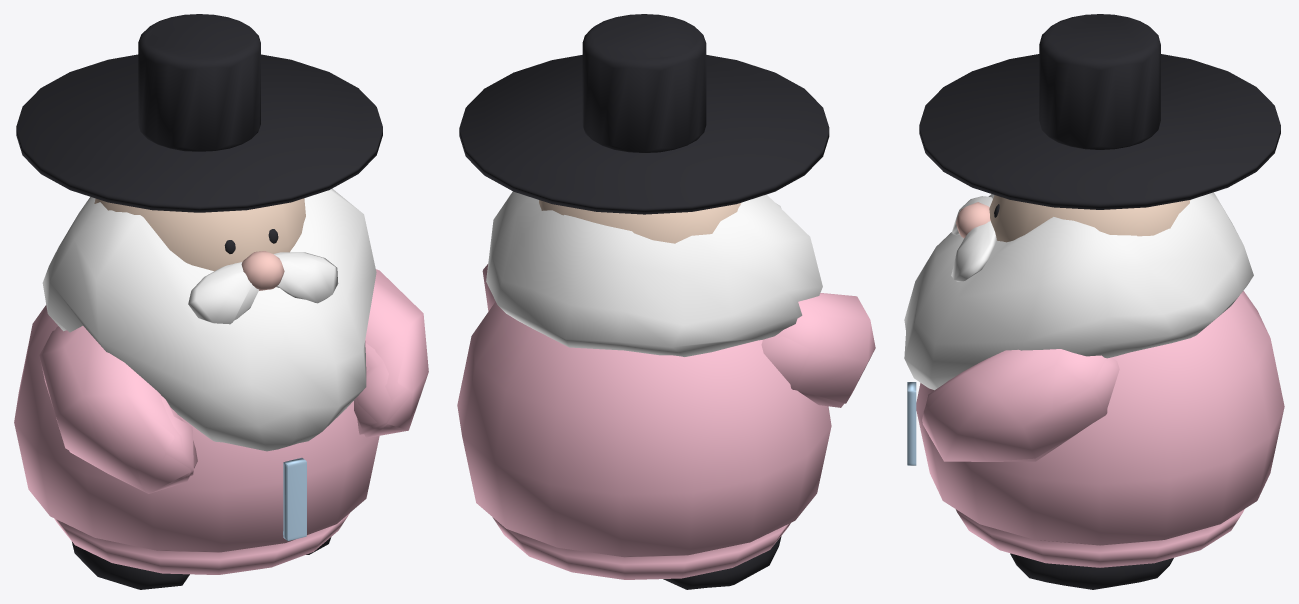
The model's file is hanbok.glb.
3 views of the same model, side by side, from view 1: azimuth 30°, elevation 25°; view 2: azimuth 150°, elevation 25°; view 3: azimuth 270°, elevation 25° (orthographic). The views are drawn at different scales.
Visible parts, largest first — view 1: hanbok_red, hanbok_white, hanbok_black, hanbok_skin, hanbok_sky, hanbok_nose; view 2: hanbok_red, hanbok_black, hanbok_white, hanbok_skin; view 3: hanbok_red, hanbok_black, hanbok_white, hanbok_skin, hanbok_sky, hanbok_nose.
Part boxes in pixels (x1,y1,x2,y2): hanbok_red: (14,269,428,574); hanbok_white: (42,188,376,451); hanbok_black: (16,14,382,589); hanbok_skin: (94,198,305,271); hanbok_sky: (283,457,306,540); hanbok_nose: (241,251,284,290); hanbok_red: (457,264,875,579); hanbok_black: (459,14,829,589); hanbok_white: (486,191,822,356); hanbok_skin: (539,200,741,243); hanbok_red: (916,291,1284,567); hanbok_black: (919,14,1280,589); hanbok_white: (904,192,1253,390); hanbok_skin: (989,195,1190,242); hanbok_sky: (907,382,916,465); hanbok_nose: (956,202,990,238).
Size of the model in its own units: 2.25 by 3.02 by 2.06.
